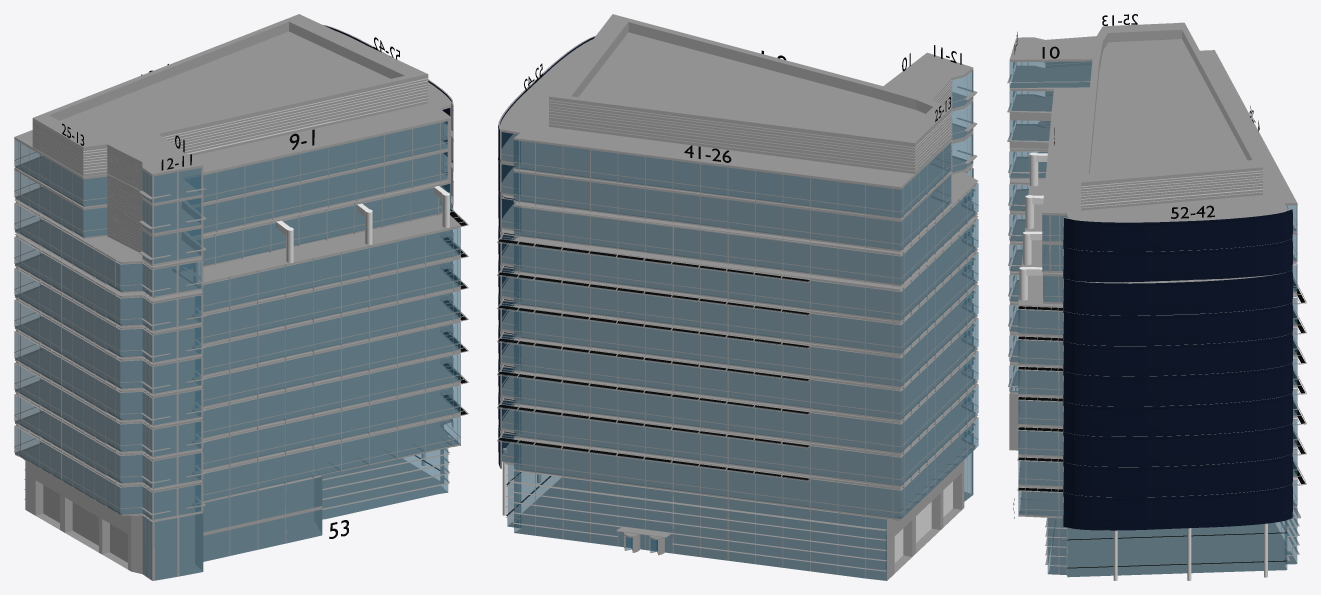
File: ExchangeSquare.glb
3 renders of one model, left to right at view 1: azimuth 30°, elevation 25°; view 2: azimuth 150°, elevation 25°; view 3: azimuth 270°, elevation 25°, orthographic. The views are drawn at different scales.
Parts seen in each view (by area): view 1: Building, Drop53, Drop1, Drop4, Drop2, Drop5, Drop7, Drop8, Drop6, Drop3, Drop9, Drop11 (+13 smaller); view 2: Building, Drop53, Drop26, Drop27, Drop28, Drop31, Drop33, Drop37, Drop35, Drop29, Drop32, Drop38 (+18 smaller); view 3: Building, Drop53, Drop49, Drop43, Drop44, Drop52, Drop46, Drop45, Drop47, Drop10, Drop48, Drop50 (+2 smaller).
Part boxes in pixels (x1,y1,x2,y2): Building: (14, 14, 468, 580); Drop53: (142, 449, 444, 580); Drop1: (411, 121, 460, 451); Drop4: (327, 141, 369, 469); Drop2: (383, 129, 425, 457); Drop5: (299, 148, 341, 476); Drop7: (243, 160, 285, 488); Drop8: (215, 166, 257, 494); Drop6: (271, 154, 313, 482); Drop3: (355, 135, 397, 463); Drop9: (180, 173, 229, 502); Drop11: (178, 168, 201, 514); Building: (497, 14, 978, 580); Drop53: (507, 434, 973, 580); Drop26: (865, 185, 901, 518); Drop27: (838, 182, 865, 514); Drop28: (810, 178, 837, 510); Drop31: (728, 167, 755, 500); Drop33: (673, 160, 700, 493); Drop37: (563, 146, 590, 478); Drop35: (618, 153, 645, 485); Drop29: (783, 175, 810, 507); Drop32: (700, 164, 727, 496); Drop38: (536, 143, 562, 475); Building: (1007, 22, 1306, 580); Drop53: (1047, 507, 1297, 577); Drop49: (1081, 221, 1115, 530); Drop43: (1244, 213, 1277, 525); Drop44: (1214, 217, 1244, 527); Drop52: (1018, 215, 1066, 516); Drop46: (1161, 221, 1189, 529); Drop45: (1189, 220, 1214, 528); Drop47: (1138, 222, 1161, 529); Drop10: (1009, 61, 1092, 391); Drop48: (1115, 222, 1137, 530); Drop50: (1063, 218, 1081, 529).
Bounding box in the file's own units: 16.51 × 17.96 × 12.08.
Materials: 29 (8 with a texture image).
